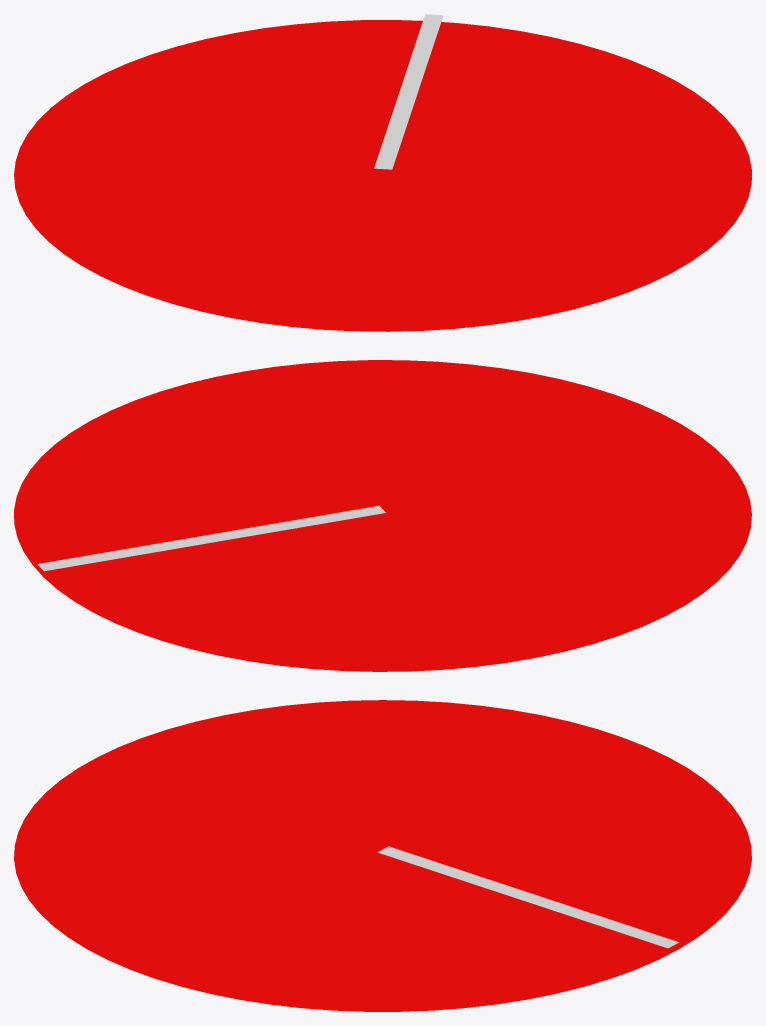
File: result.glb
3 renders of one model, top to bottom at view 1: azimuth 30°, elevation 25°; view 2: azimuth 150°, elevation 25°; view 3: azimuth 270°, elevation 25°, orthographic.
Parts seen in each view (by area): view 1: 3496ca1c-49a7-4aac-af90-1adcc1ca8416__Circle, 65465fa4-f3fb-4bae-ae98-7914a1a7ca3e__Plane_1; view 2: 3496ca1c-49a7-4aac-af90-1adcc1ca8416__Circle, 65465fa4-f3fb-4bae-ae98-7914a1a7ca3e__Plane_1; view 3: 3496ca1c-49a7-4aac-af90-1adcc1ca8416__Circle, 65465fa4-f3fb-4bae-ae98-7914a1a7ca3e__Plane_1.
Boxes of the visible parts, x1=… form: 3496ca1c-49a7-4aac-af90-1adcc1ca8416__Circle: x1=14, y1=20, x2=751, y2=331; 65465fa4-f3fb-4bae-ae98-7914a1a7ca3e__Plane_1: x1=374, y1=14, x2=443, y2=169; 3496ca1c-49a7-4aac-af90-1adcc1ca8416__Circle: x1=14, y1=360, x2=751, y2=671; 65465fa4-f3fb-4bae-ae98-7914a1a7ca3e__Plane_1: x1=37, y1=505, x2=385, y2=571; 3496ca1c-49a7-4aac-af90-1adcc1ca8416__Circle: x1=14, y1=700, x2=751, y2=1011; 65465fa4-f3fb-4bae-ae98-7914a1a7ca3e__Plane_1: x1=377, y1=846, x2=678, y2=948.
Bounding box in the file's own units: 99.95 × 1 × 99.98.
